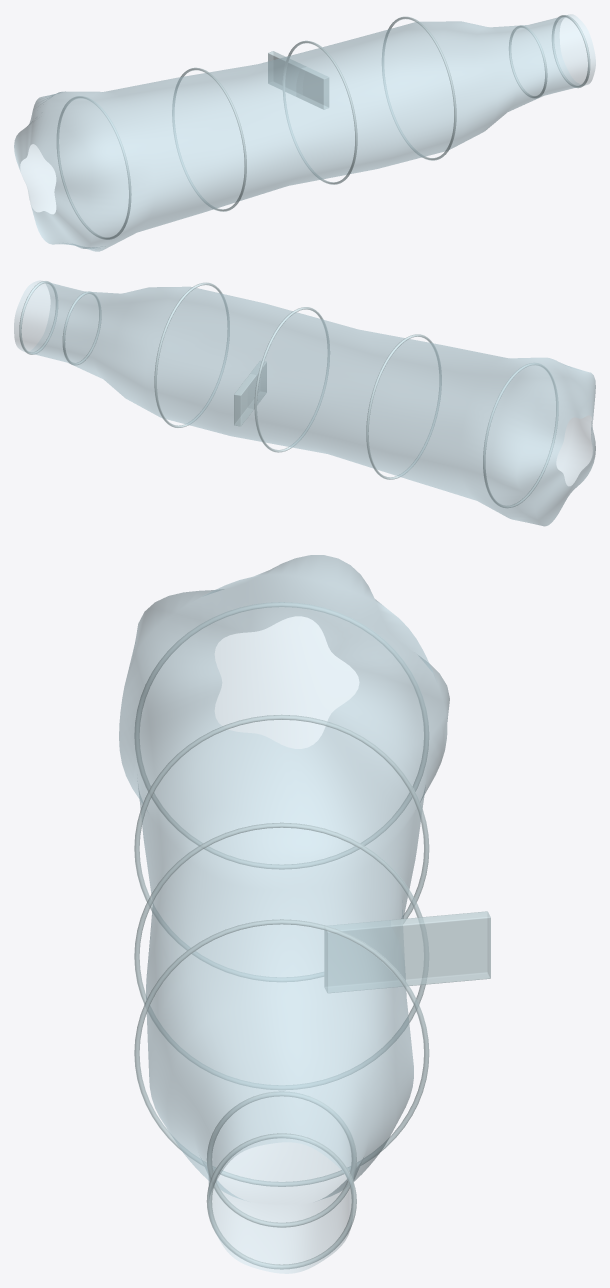
Rendered from pet_bottle_impact.glb.
3 views of the same model, one above another, from view 1: azimuth 30°, elevation 25°; view 2: azimuth 150°, elevation 25°; view 3: azimuth 270°, elevation 25° (orthographic). The views are drawn at different scales.
Parts seen in each view (by area): view 1: RW3_PET_Bottle_Impact, RW3_Soft_Dent_Read, RW3_PET_Ridge_1.001, RW3_PET_Ridge_4.001, RW3_PET_Ridge_2.001, RW3_PET_Ridge_3.001, RW3_PET_Ridge_5.001, RW3_PET_Ridge_6.001; view 2: RW3_PET_Bottle_Impact, RW3_Soft_Dent_Read, RW3_PET_Ridge_1.001, RW3_PET_Ridge_3.001, RW3_PET_Ridge_4.001, RW3_PET_Ridge_2.001, RW3_PET_Ridge_5.001, RW3_PET_Ridge_6.001; view 3: RW3_PET_Bottle_Impact, RW3_Soft_Dent_Read, RW3_PET_Ridge_4.001, RW3_PET_Ridge_1.001, RW3_PET_Ridge_3.001, RW3_PET_Ridge_2.001, RW3_PET_Ridge_6.001, RW3_PET_Ridge_5.001.
Boxes of the visible parts, x1,y1,x2,y2 form: RW3_PET_Bottle_Impact: (14, 14, 595, 251); RW3_Soft_Dent_Read: (268, 51, 329, 109); RW3_PET_Ridge_1.001: (56, 96, 131, 239); RW3_PET_Ridge_4.001: (382, 16, 456, 160); RW3_PET_Ridge_2.001: (172, 67, 246, 211); RW3_PET_Ridge_3.001: (283, 40, 357, 184); RW3_PET_Ridge_5.001: (508, 25, 547, 98); RW3_PET_Ridge_6.001: (552, 15, 590, 88); RW3_PET_Bottle_Impact: (14, 280, 595, 526); RW3_Soft_Dent_Read: (234, 360, 266, 426); RW3_PET_Ridge_1.001: (483, 362, 558, 508); RW3_PET_Ridge_3.001: (254, 307, 329, 452); RW3_PET_Ridge_4.001: (154, 282, 229, 427); RW3_PET_Ridge_2.001: (366, 334, 441, 479); RW3_PET_Ridge_5.001: (62, 291, 101, 365); RW3_PET_Ridge_6.001: (19, 281, 57, 354); RW3_PET_Bottle_Impact: (119, 555, 449, 1273); RW3_Soft_Dent_Read: (324, 911, 490, 993); RW3_PET_Ridge_4.001: (134, 919, 429, 1186); RW3_PET_Ridge_1.001: (134, 602, 429, 869); RW3_PET_Ridge_3.001: (134, 822, 428, 1089); RW3_PET_Ridge_2.001: (134, 714, 429, 981); RW3_PET_Ridge_6.001: (206, 1133, 356, 1269); RW3_PET_Ridge_5.001: (206, 1091, 356, 1227).
Size of the model in its own units: 3.26 by 0.8612 by 0.976.
